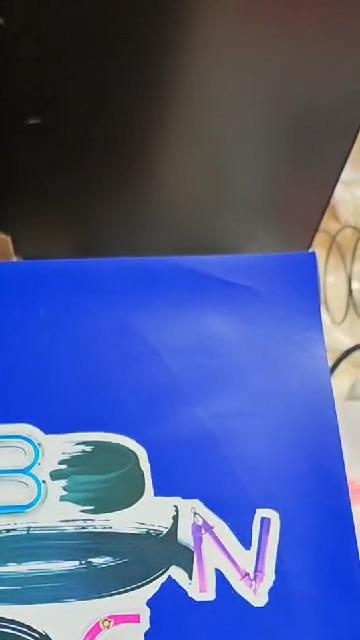B_R1: (0, 413, 314, 640)
